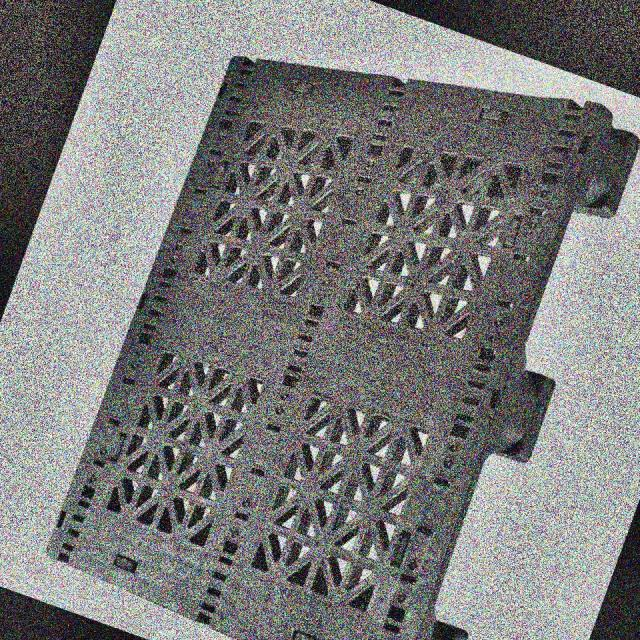non-igps: (41, 46, 640, 639)
